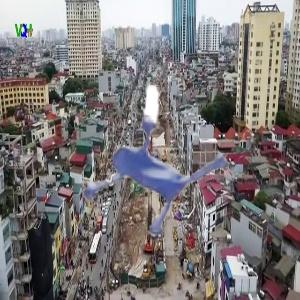drone: (55, 52, 262, 259)
